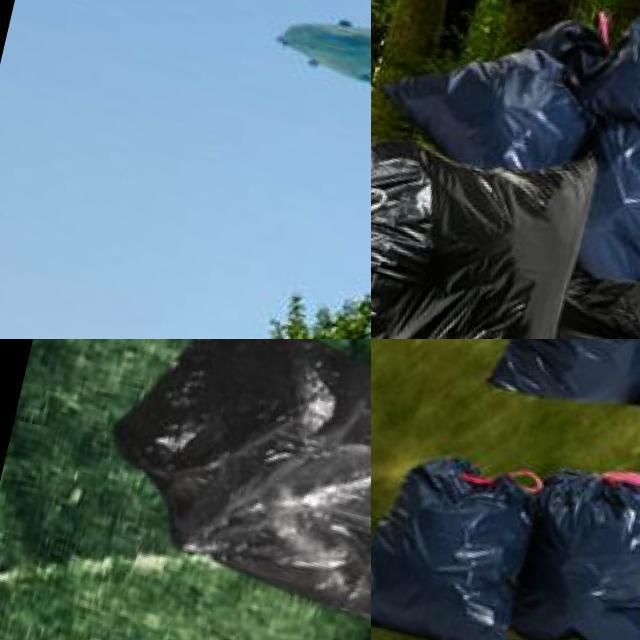waste: (97, 339, 371, 640), (371, 103, 603, 339), (371, 429, 561, 640), (375, 16, 593, 183), (497, 455, 640, 640), (548, 124, 640, 301), (470, 252, 640, 339), (270, 0, 371, 130), (499, 339, 640, 408), (581, 0, 640, 156)
